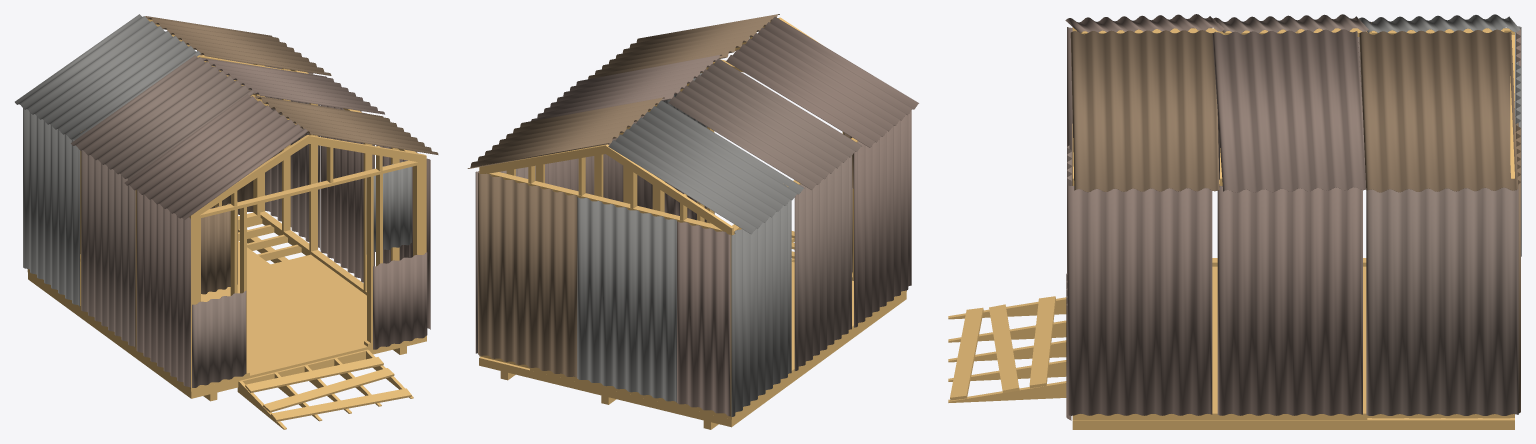
3 views of the same model, side by side, from view 1: azimuth 30°, elevation 25°; view 2: azimuth 150°, elevation 25°; view 3: azimuth 270°, elevation 25° (orthographic). The views are drawn at different scales.
Parts seen in each view (by area): view 1: Sheeting..008 (×4), Frame, Floorboards; view 2: Sheeting..008 (×4), Frame, Floorboards; view 3: Sheeting..008 (×4), Frame, Floorboards.
Part boxes in pixels (box(x1,y1,x2,y2)): Sheeting..008 (×4): box(15, 14, 438, 388); Frame: box(27, 19, 426, 429); Floorboards: box(27, 241, 372, 391); Sheeting..008 (×4): box(467, 14, 918, 416); Frame: box(479, 17, 906, 429); Floorboards: box(530, 262, 906, 419); Sheeting..008 (×4): box(1065, 14, 1521, 420); Frame: box(948, 22, 1514, 429); Floorboards: box(1072, 266, 1367, 419).
Size of the model in its own units: 1.45 by 1.29 by 2.
